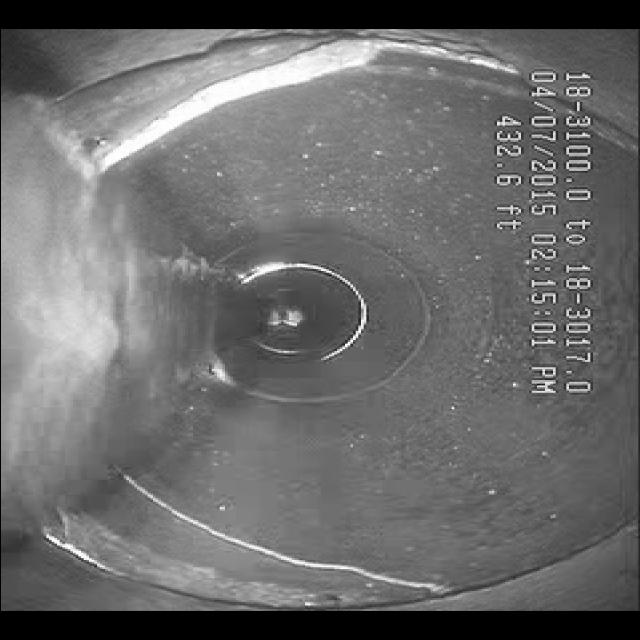Crack: (102, 497, 390, 590)
Fracture: (95, 41, 400, 140)
